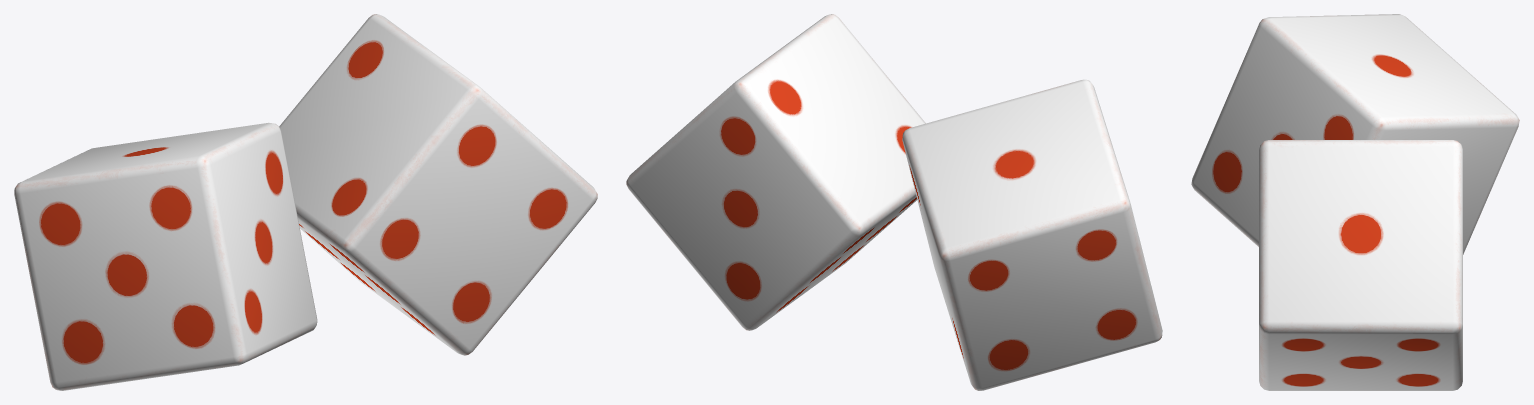
File: Dice.fbx
3 views of the same model, side by side, from view 1: azimuth 30°, elevation 25°; view 2: azimuth 150°, elevation 25°; view 3: azimuth 270°, elevation 25° (orthographic). The views are drawn at different scales.
Visible parts, largest first — view 1: Dice_01_1, Dice_01; view 2: Dice_01_1, Dice_01; view 3: Dice_01, Dice_01_1.
Boxes of the visible parts, x1=… form: Dice_01_1: x1=14, y1=122, x2=317, y2=390; Dice_01: x1=279, y1=14, x2=597, y2=355; Dice_01_1: x1=902, y1=79, x2=1162, y2=390; Dice_01: x1=626, y1=14, x2=925, y2=330; Dice_01: x1=1259, y1=140, x2=1462, y2=390; Dice_01_1: x1=1191, y1=14, x2=1519, y2=254.
Bounding box in the file's own units: 4.96 × 2.55 × 2.89.
1 material, 1 textured.
